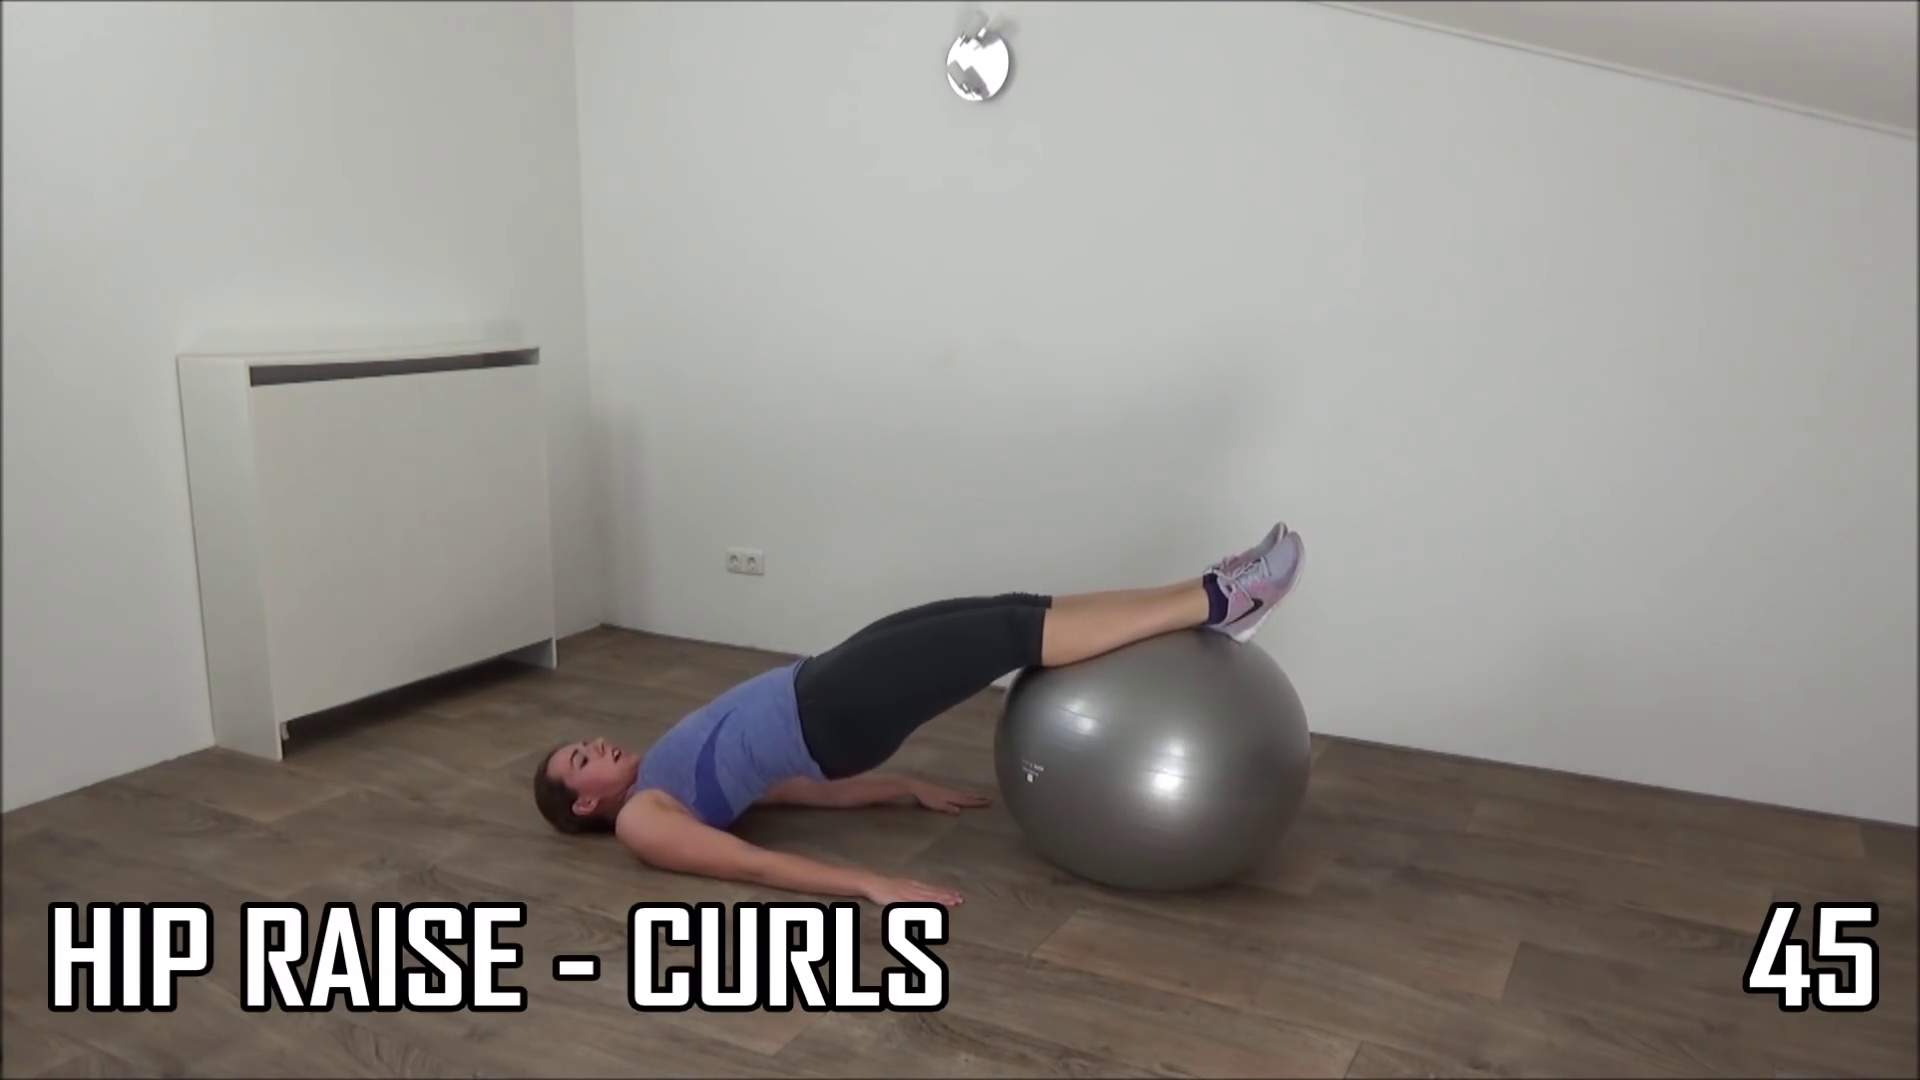yogaball: (973, 624, 1338, 903)
